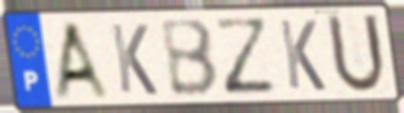A: (52, 18, 115, 102)
B: (157, 17, 222, 99)
K: (276, 17, 329, 93), (108, 21, 160, 97)
U: (324, 11, 389, 97)
Z: (210, 16, 280, 99)
